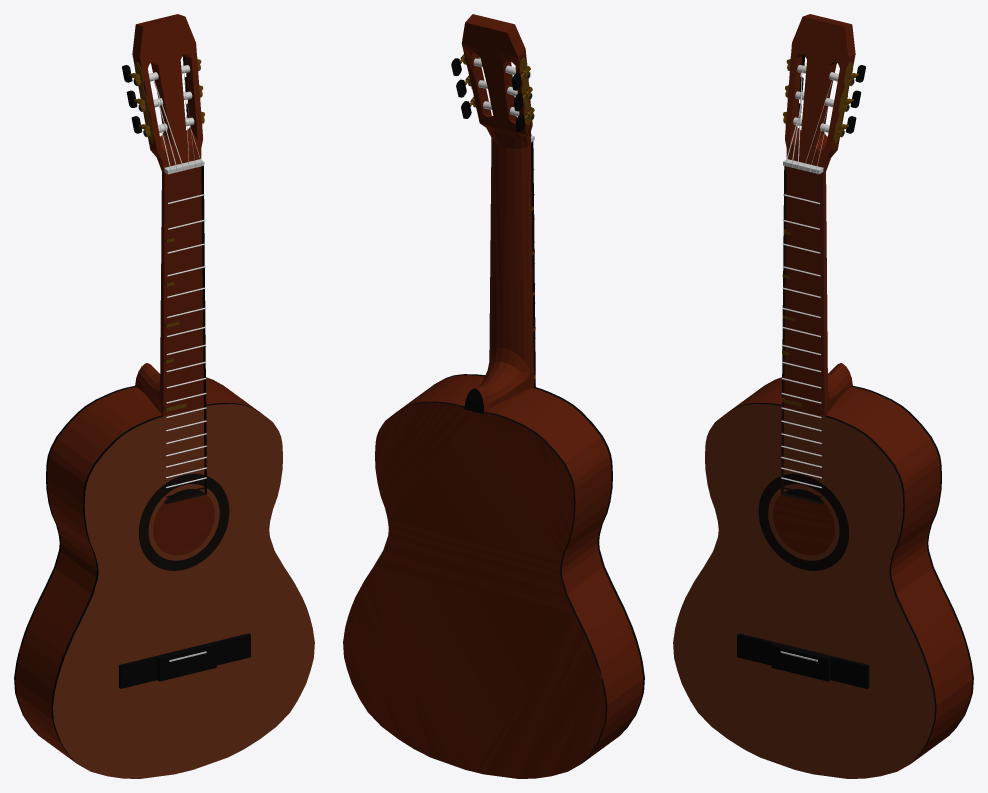
File: gao-beta-5.obj
The picture shows the model from 3 angles, left to right: view 1: azimuth 30°, elevation 25°; view 2: azimuth 150°, elevation 25°; view 3: azimuth 330°, elevation 25°; orthographic projection.
Visible parts, largest first — view 1: guitar.top_fullguitar.top, guitar.body_fullguitar._body, guitar.neck_fullguitar.neck, guitar.misc_fullguitar.misc, guitar.fingerboard, guitar.frets; view 2: guitar.body_fullguitar._body, guitar.neck_fullguitar.neck, guitar.misc_fullguitar.misc, guitar.fingerboard; view 3: guitar.top_fullguitar.top, guitar.body_fullguitar._body, guitar.neck_fullguitar.neck, guitar.misc_fullguitar.misc, guitar.frets, guitar.fingerboard.
Part boxes in pixels (x1,y1,x2,y2): guitar.top_fullguitar.top: [53, 404, 314, 778]; guitar.body_fullguitar._body: [14, 377, 309, 763]; guitar.neck_fullguitar.neck: [132, 14, 203, 416]; guitar.misc_fullguitar.misc: [119, 55, 250, 688]; guitar.fingerboard: [164, 166, 206, 504]; guitar.frets: [166, 194, 206, 488]; guitar.body_fullguitar._body: [343, 374, 644, 778]; guitar.neck_fullguitar.neck: [461, 14, 533, 414]; guitar.misc_fullguitar.misc: [451, 54, 534, 142]; guitar.fingerboard: [531, 141, 535, 386]; guitar.top_fullguitar.top: [673, 404, 934, 778]; guitar.body_fullguitar._body: [678, 377, 973, 763]; guitar.neck_fullguitar.neck: [784, 14, 855, 416]; guitar.misc_fullguitar.misc: [737, 55, 869, 688]; guitar.frets: [781, 194, 821, 488]; guitar.fingerboard: [781, 166, 823, 504].
Bounding box in the file's own units: 147 × 395 × 42.53.
